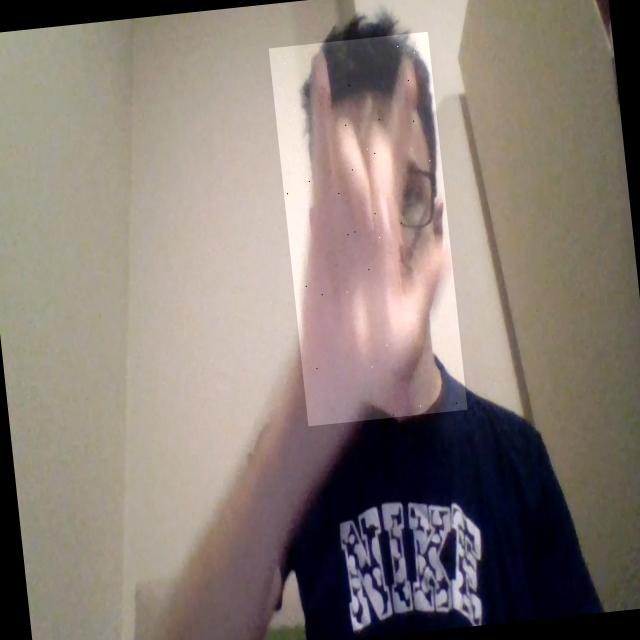iloveyou: (268, 31, 467, 426)
